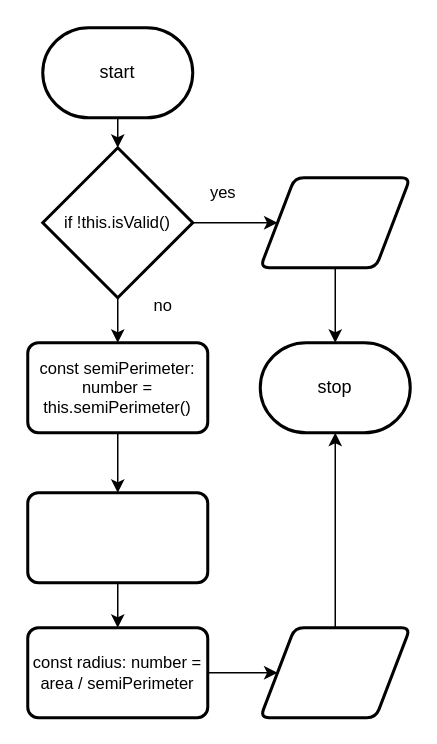
The diagram is 437 pixels wide and 744 high, and some of its shapes have lost their labels. The shapes that lost their labels are listed below. From the top down, each one's centre as x and y in pixels, then its label:
the point at 334,222: return -1
the point at 117,537: const area: number = this.area()
the point at 334,672: return radius
